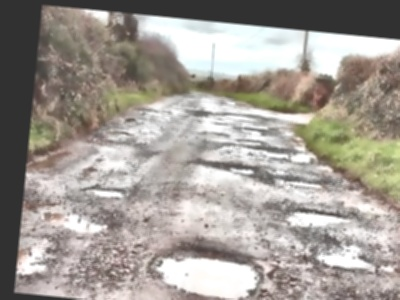pothole: (145, 240, 267, 300), (42, 206, 114, 234), (312, 242, 379, 271), (17, 238, 55, 280), (191, 156, 264, 177), (293, 207, 355, 224), (81, 182, 127, 198), (237, 125, 271, 136), (291, 150, 317, 163)
